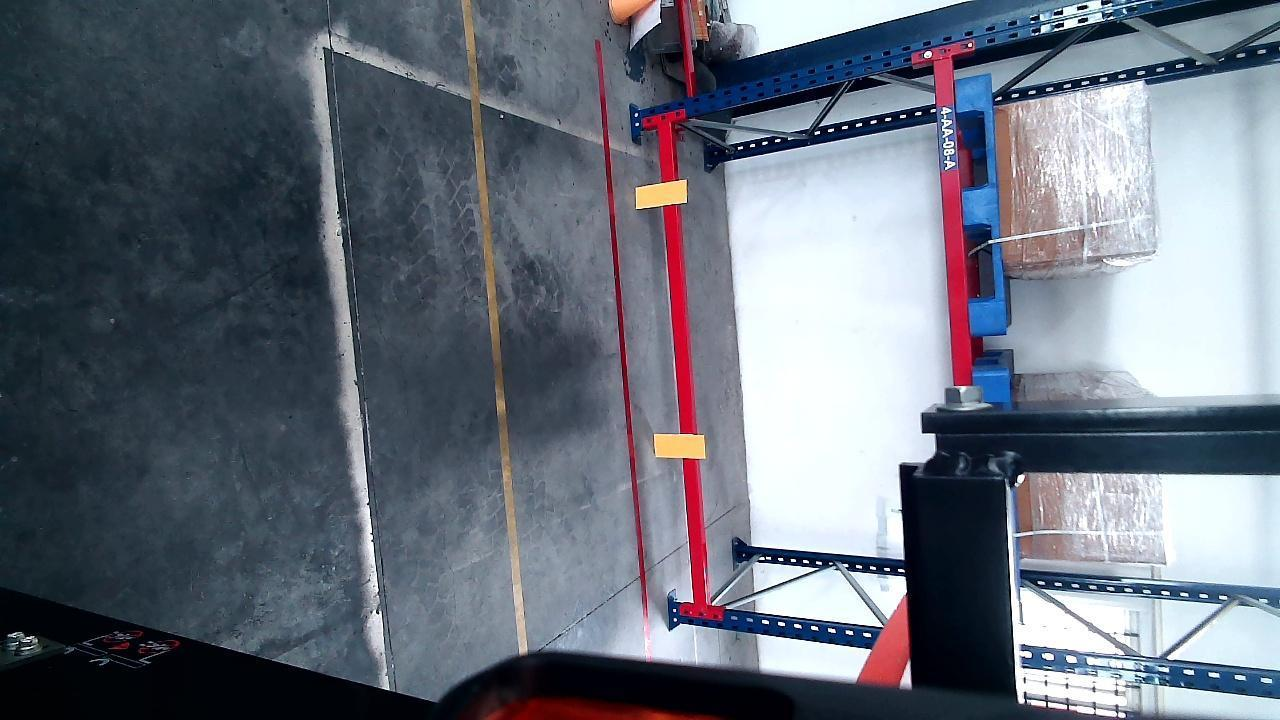h_rack: (653, 101, 708, 627), (934, 60, 966, 363)
orange_strip: (634, 180, 687, 207), (654, 431, 704, 458)
red_line: (595, 41, 653, 636)
small_pallet: (957, 75, 1003, 334)
